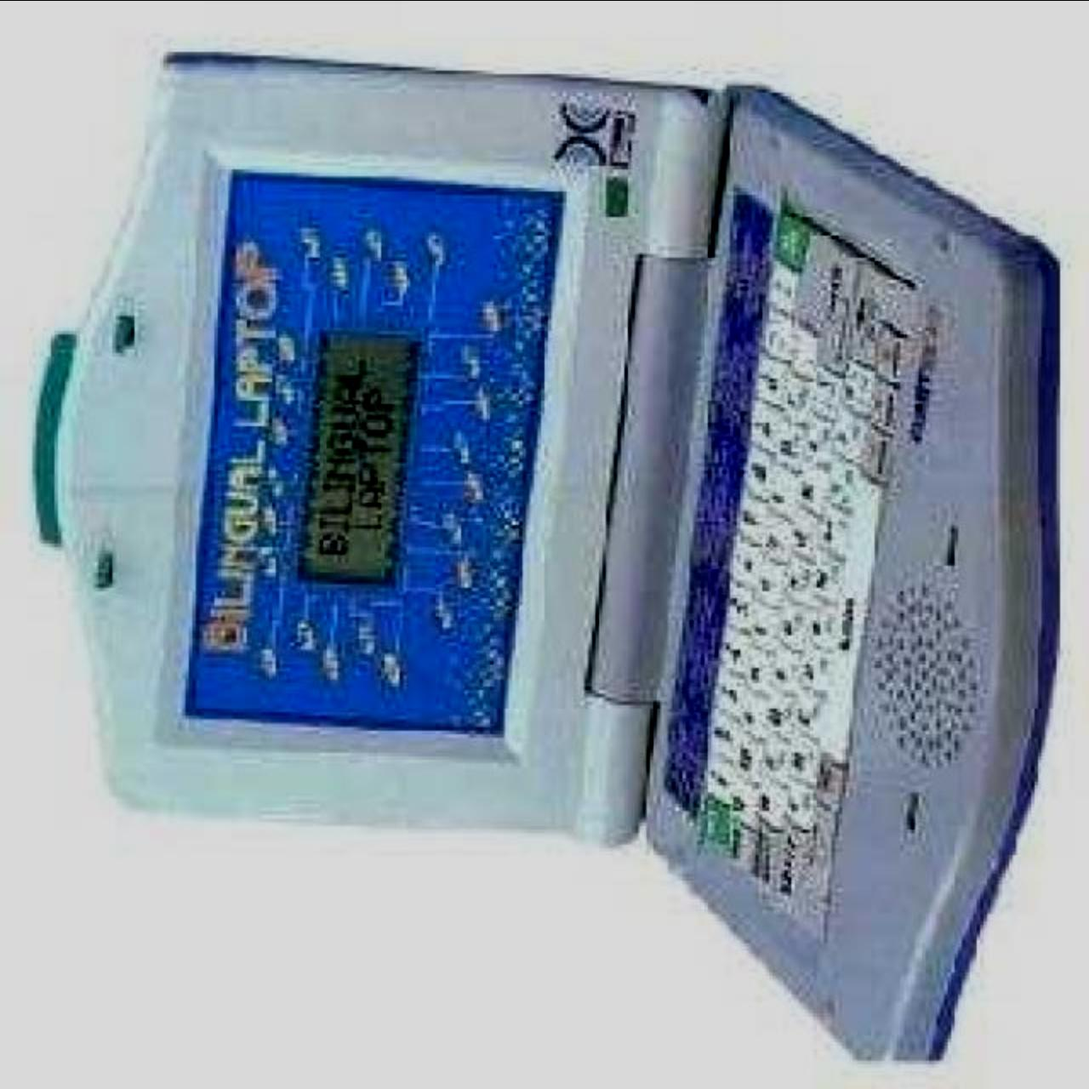laptop: (147, 77, 1017, 849)
